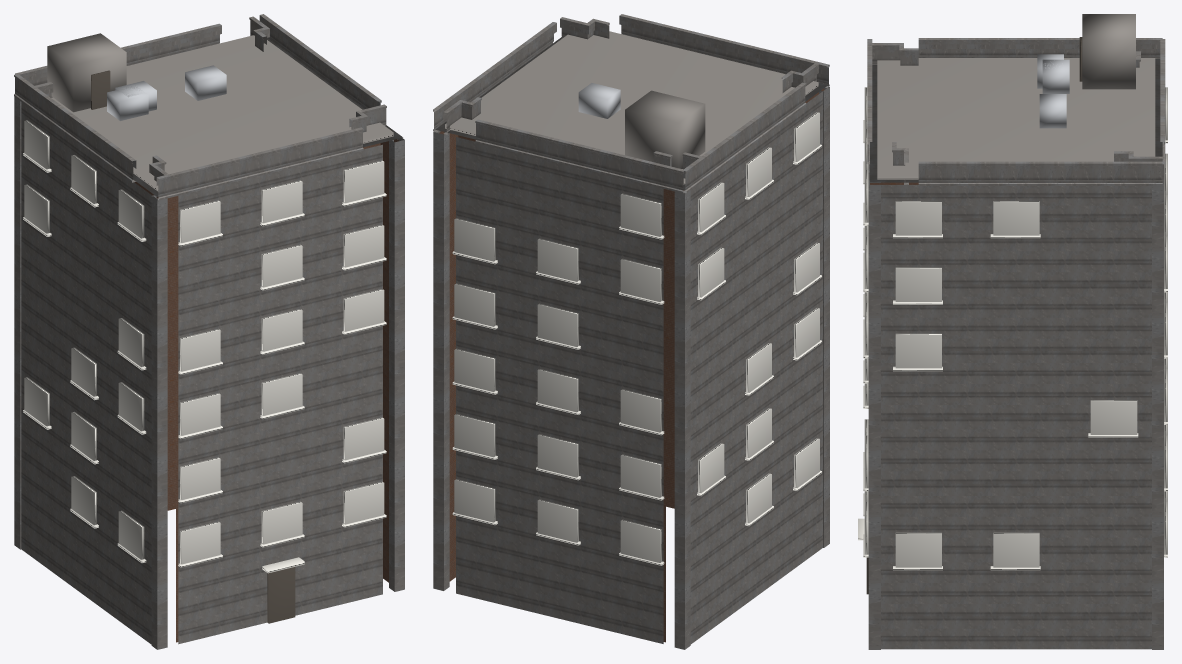
File: b_tower2.gltf
The picture shows the model from 3 angles, left to right: view 1: azimuth 30°, elevation 25°; view 2: azimuth 150°, elevation 25°; view 3: azimuth 270°, elevation 25°; orthographic projection. The views are drawn at different scales.
Parts seen in each view (by area): view 1: b_tower2; view 2: b_tower2; view 3: b_tower2.
Boxes of the visible parts, bbox=[...] form: b_tower2: bbox=[14, 14, 404, 649]; b_tower2: bbox=[433, 14, 829, 649]; b_tower2: bbox=[858, 14, 1167, 649].
Size of the model in its own units: 12.48 by 23.55 by 12.7.
Materials: 9 (3 with a texture image).
